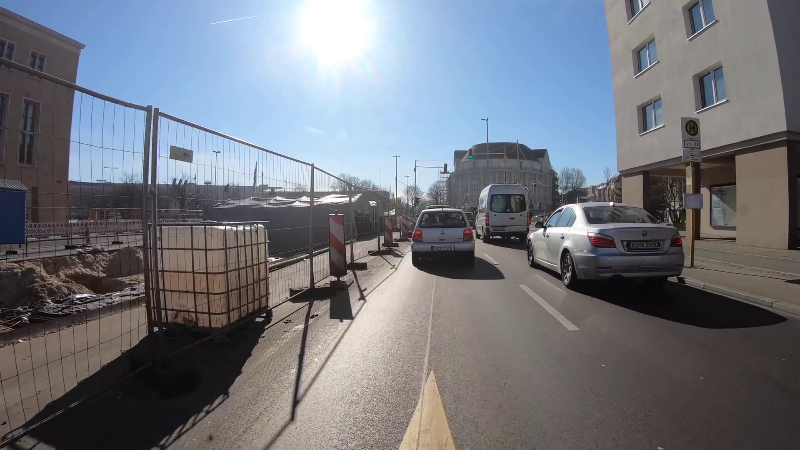Plate: (626, 239, 662, 252), (430, 244, 454, 251)
